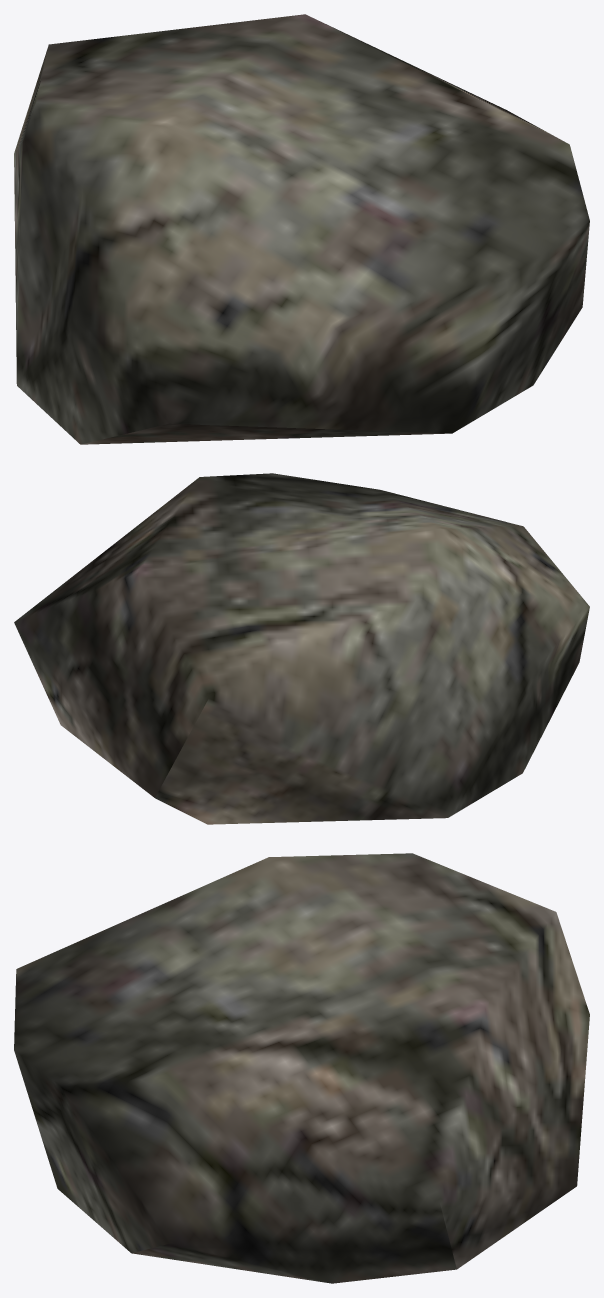
Rendered from Rock1B_976.FBX.
3 renders of one model, top to bottom at view 1: azimuth 30°, elevation 25°; view 2: azimuth 150°, elevation 25°; view 3: azimuth 270°, elevation 25°, orthographic. The views are drawn at different scales.
Parts seen in each view (by area): view 1: Rock1B_976; view 2: Rock1B_976; view 3: Rock1B_976.
Boxes of the visible parts, <box> form: Rock1B_976: <box>14,14,589,444</box>; Rock1B_976: <box>14,473,589,824</box>; Rock1B_976: <box>14,853,589,1283</box>.
Size of the model in its own units: 139 by 73.36 by 137.
Materials: 1 (1 with a texture image).
